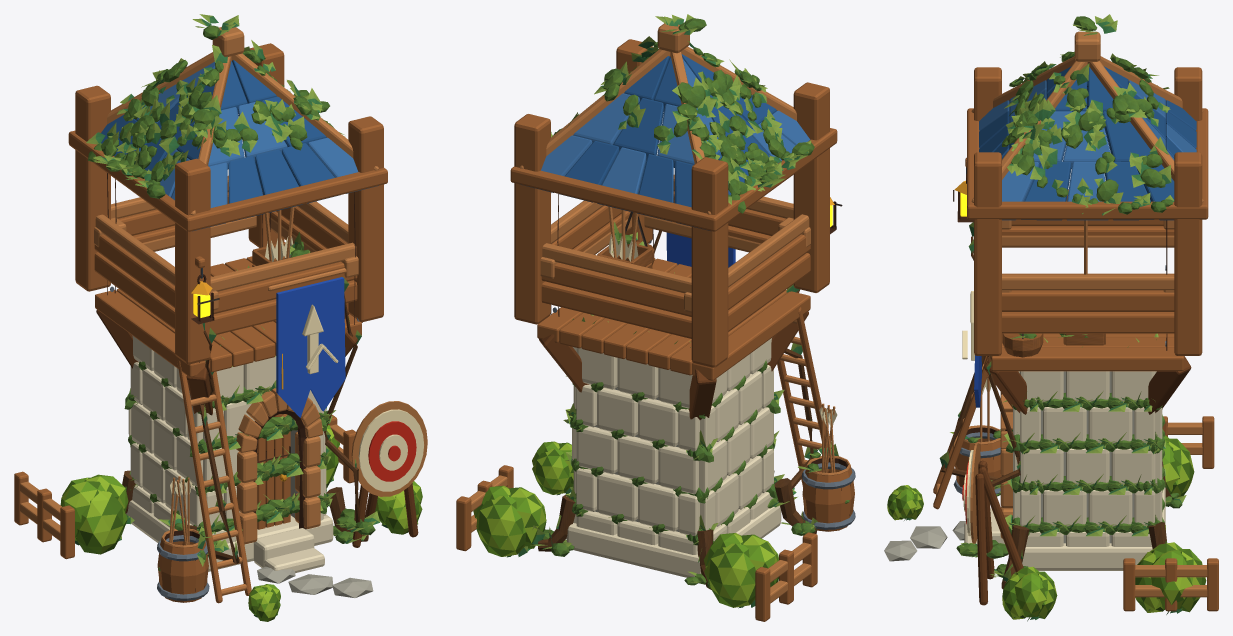
File: arrow_tower.glb
The picture shows the model from 3 angles, left to right: view 1: azimuth 30°, elevation 25°; view 2: azimuth 150°, elevation 25°; view 3: azimuth 270°, elevation 25°; orthographic projection. The views are drawn at different scales.
Visible parts, largest first — view 1: Runtime surface 007, Runtime surface 000, Runtime surface 016, Runtime surface 031, Runtime surface 010, Runtime surface 004, Runtime surface 030, Runtime surface 009, Runtime surface 001, Runtime surface 021, Runtime surface 024, Runtime surface 028 (+10 smaller); view 2: Runtime surface 007, Runtime surface 016, Runtime surface 000, Runtime surface 031, Runtime surface 010, Runtime surface 009, Runtime surface 030, Runtime surface 024, Runtime surface 023, Runtime surface 021, Runtime surface 005, Runtime surface 028 (+7 smaller); view 3: Runtime surface 007, Runtime surface 016, Runtime surface 000, Runtime surface 031, Runtime surface 010, Runtime surface 021, Runtime surface 005, Runtime surface 030, Runtime surface 009, Runtime surface 024, Runtime surface 025, Runtime surface 029 (+8 smaller).
Boxes of the visible parts, x1=… form: Runtime surface 007: x1=14, y1=43, x2=387, y2=603; Runtime surface 000: x1=20, y1=27, x2=427, y2=595; Runtime surface 016: x1=126, y1=335, x2=333, y2=572; Runtime surface 031: x1=88, y1=25, x2=375, y2=545; Runtime surface 010: x1=101, y1=60, x2=340, y2=221; Runtime surface 004: x1=276, y1=277, x2=345, y2=417; Runtime surface 030: x1=86, y1=14, x2=380, y2=554; Runtime surface 009: x1=135, y1=62, x2=378, y2=231; Runtime surface 001: x1=170, y1=236, x2=423, y2=496; Runtime surface 021: x1=124, y1=241, x2=328, y2=571; Runtime surface 024: x1=61, y1=428, x2=420, y2=621; Runtime surface 028: x1=122, y1=294, x2=368, y2=563; Runtime surface 007: x1=456, y1=39, x2=854, y2=621; Runtime surface 016: x1=566, y1=338, x2=781, y2=577; Runtime surface 000: x1=469, y1=23, x2=850, y2=603; Runtime surface 031: x1=542, y1=18, x2=815, y2=588; Runtime surface 010: x1=559, y1=54, x2=776, y2=230; Runtime surface 009: x1=521, y1=58, x2=810, y2=212; Runtime surface 030: x1=530, y1=14, x2=817, y2=582; Runtime surface 024: x1=473, y1=441, x2=778, y2=607; Runtime surface 023: x1=478, y1=441, x2=778, y2=607; Runtime surface 021: x1=570, y1=232, x2=849, y2=545; Runtime surface 005: x1=539, y1=311, x2=808, y2=419; Runtime surface 028: x1=538, y1=230, x2=816, y2=589; Runtime surface 007: x1=933, y1=67, x2=1218, y2=611; Runtime surface 016: x1=964, y1=371, x2=1165, y2=570; Runtime surface 000: x1=936, y1=31, x2=1207, y2=597; Runtime surface 031: x1=956, y1=16, x2=1182, y2=577; Runtime surface 010: x1=979, y1=66, x2=1196, y2=220; Runtime surface 021: x1=967, y1=333, x2=1165, y2=535; Runtime surface 005: x1=975, y1=356, x2=1191, y2=605; Runtime surface 030: x1=940, y1=14, x2=1186, y2=579; Runtime surface 009: x1=979, y1=80, x2=1196, y2=220; Runtime surface 024: x1=887, y1=440, x2=1205, y2=619; Runtime surface 025: x1=887, y1=439, x2=1206, y2=618; Runtime surface 029: x1=939, y1=20, x2=1181, y2=581.
Bounding box in the file's own units: 3.72 × 5.91 × 3.39.
30 materials, 8 textured.
